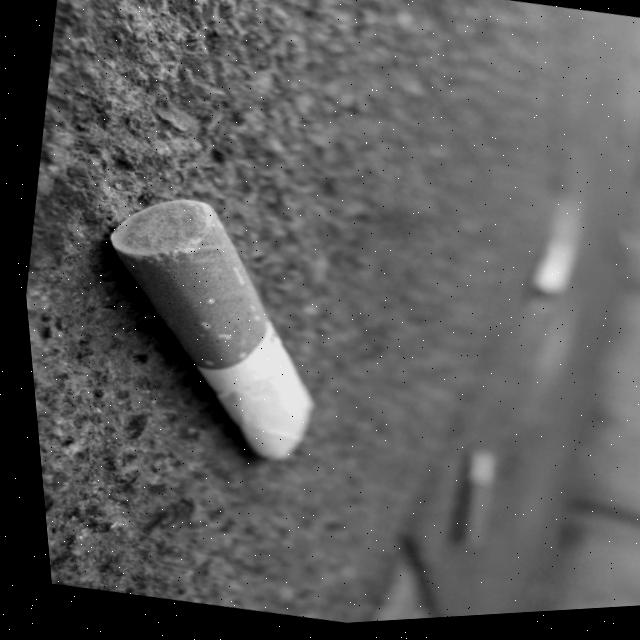cigarette: (108, 198, 314, 457)
